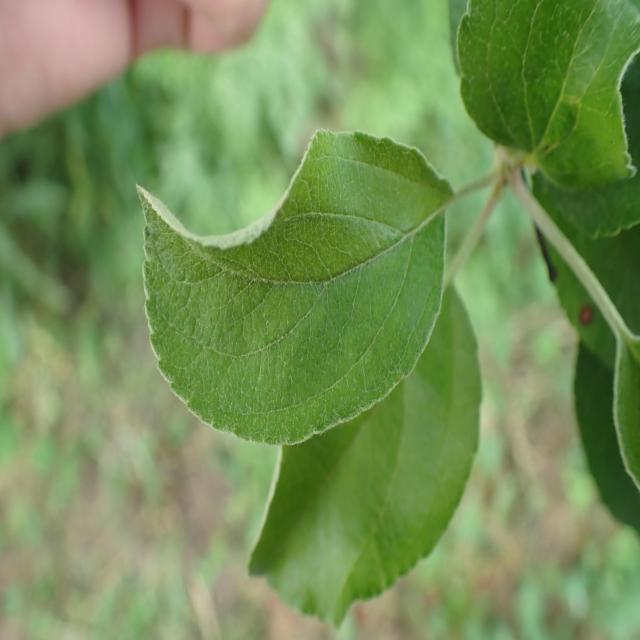healthy: (137, 127, 453, 447), (247, 283, 483, 629), (455, 0, 640, 191)
